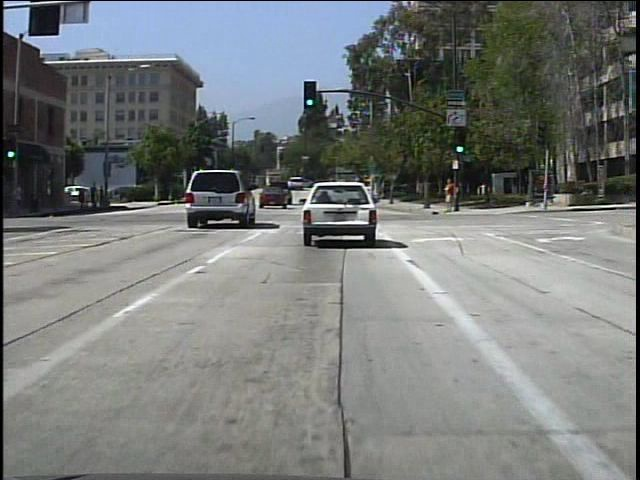person: (439, 172, 459, 216), (91, 179, 101, 212), (104, 182, 105, 209)
